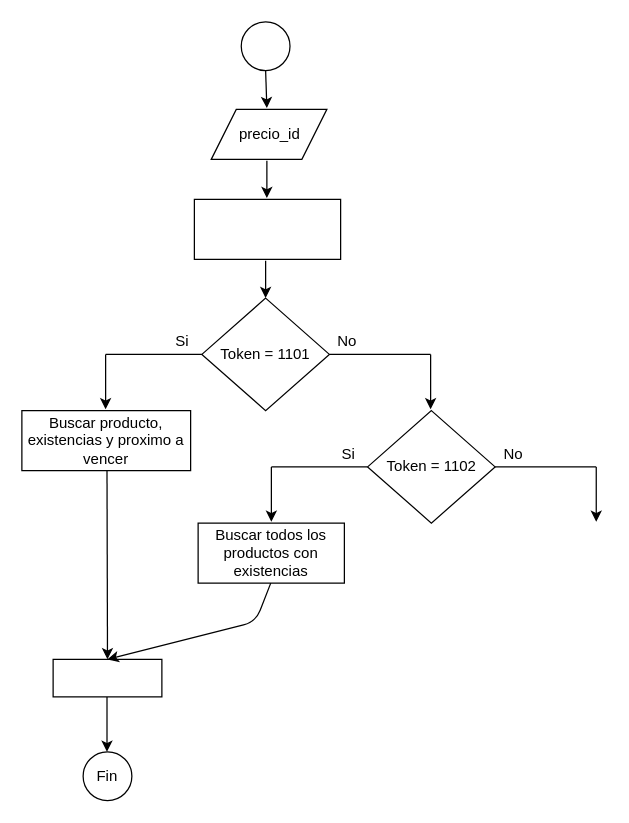
Image size: 629x823. Some labels were removed from this diagram. Each missing label, with the box of its shape:
Inicio: (240, 21, 290, 71)
Retornar list: (52, 658, 162, 697)
Traer precio con categoria del precio: (193, 198, 341, 259)
